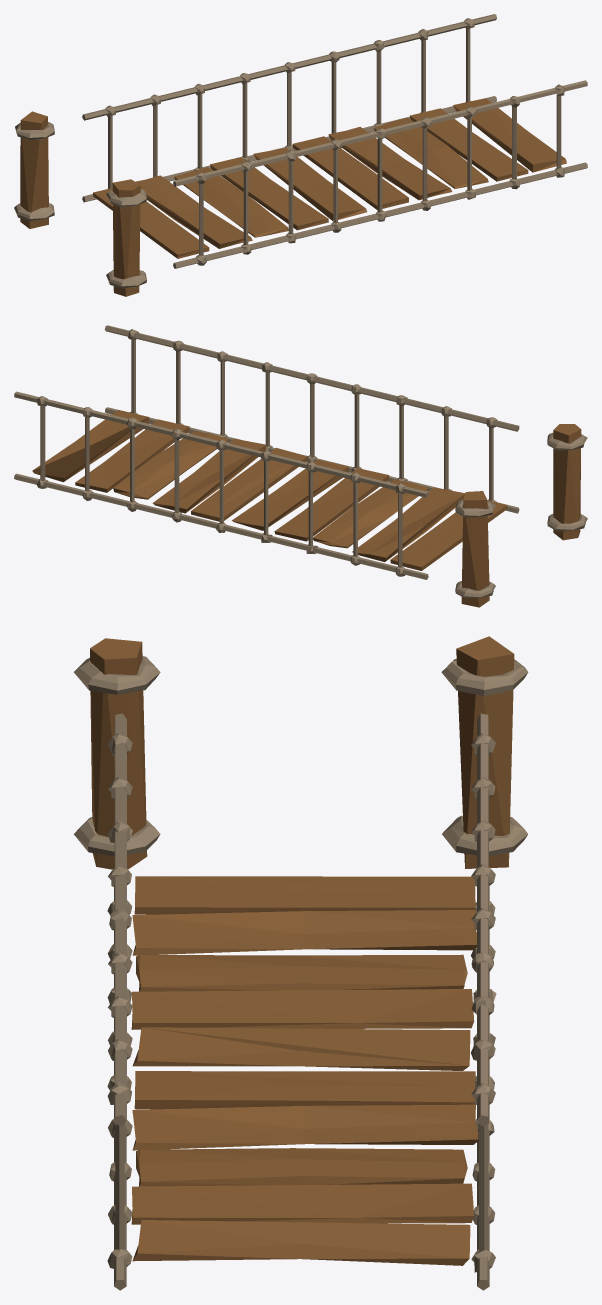
Rendered from Bridge.fbx.
The picture shows the model from 3 angles, top to bottom: view 1: azimuth 30°, elevation 25°; view 2: azimuth 150°, elevation 25°; view 3: azimuth 270°, elevation 25°; orthographic projection. The views are drawn at different scales.
Visible parts, largest first — view 1: Bridge, Bridge_Support; view 2: Bridge, Bridge_Support; view 3: Bridge, Bridge_Support.
Boxes of the visible parts, bbox=[...] form: Bridge: bbox=[82, 14, 587, 268]; Bridge_Support: bbox=[14, 111, 146, 296]; Bridge: bbox=[14, 325, 519, 579]; Bridge_Support: bbox=[455, 424, 587, 607]; Bridge: bbox=[107, 713, 496, 1290]; Bridge_Support: bbox=[74, 636, 528, 869].
Size of the model in its own units: 668 by 141 by 275.
